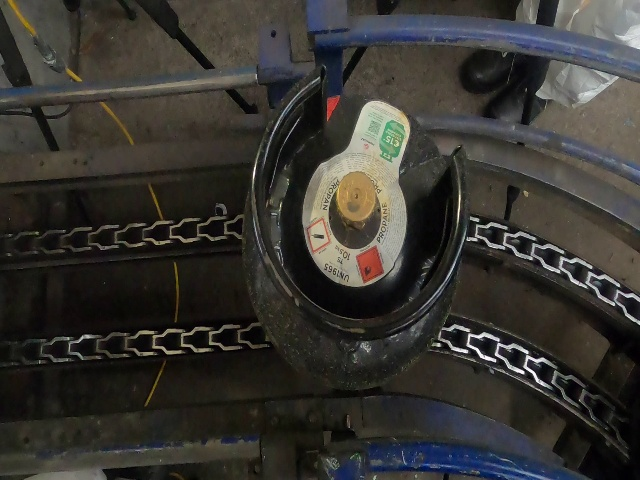gas_bottle: (7, 6, 640, 480)
